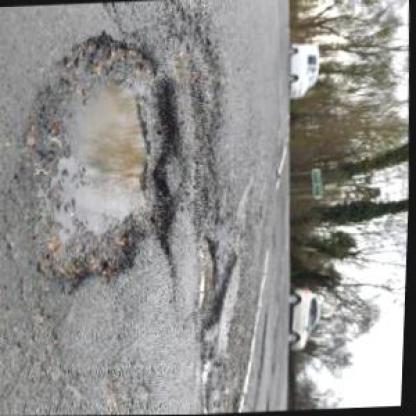pothole: (10, 29, 191, 287), (191, 234, 244, 330)
